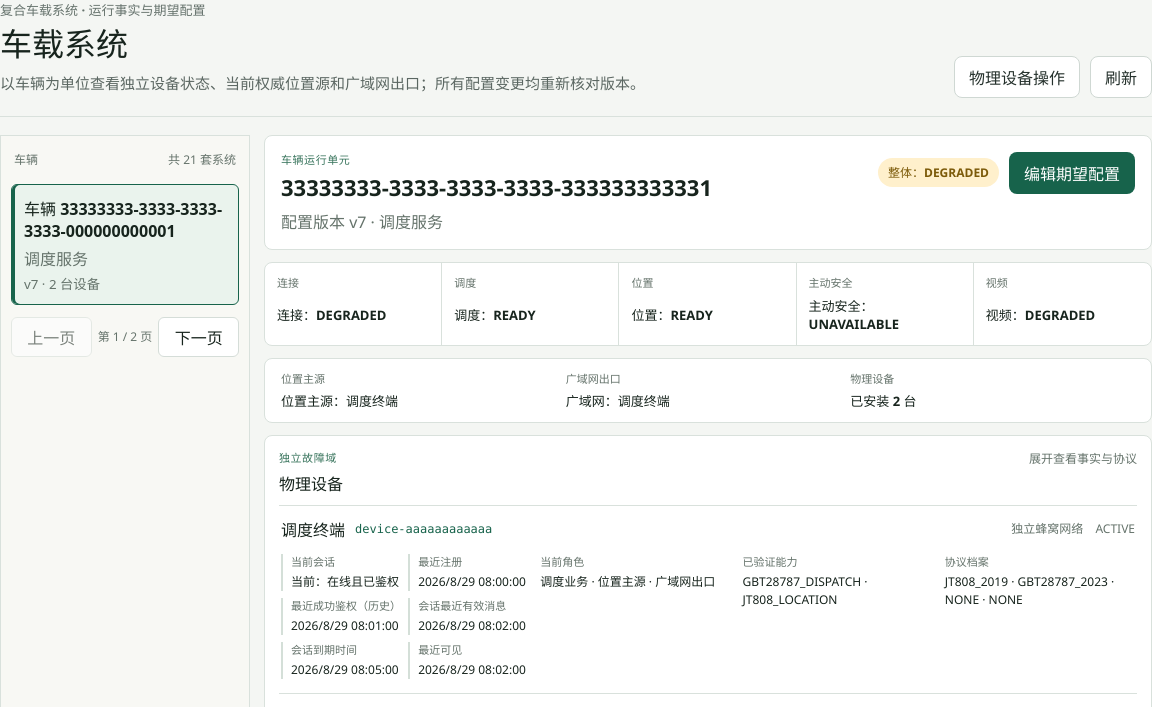
Test: OnboardSystemManagementPage › falls back from an out-of-range empty page at most once
Check: the text "第 1 / 2 页" is shown, box [98, 328, 152, 345]
Click the button "下一页" at (199, 337), box [158, 317, 239, 357]
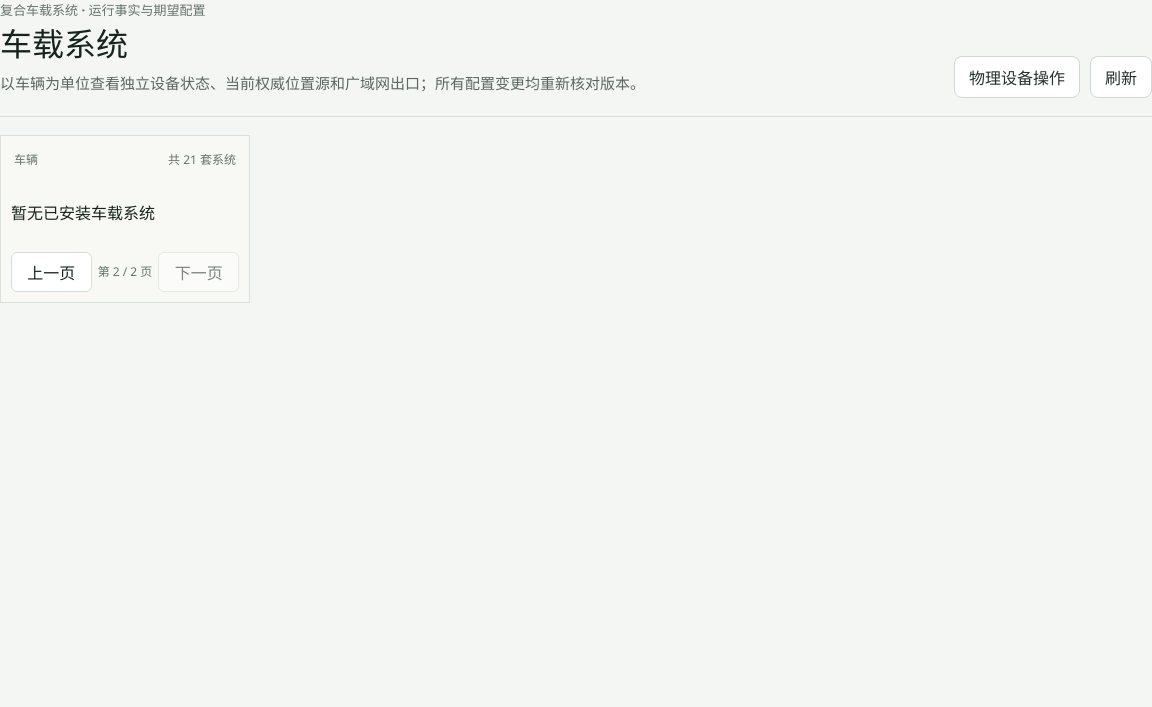
Check: the text "第 2 / 2 页" is shown, box [98, 263, 152, 280]
Check: the text "暂无已安装车载系统" is shown, box [11, 202, 155, 224]
